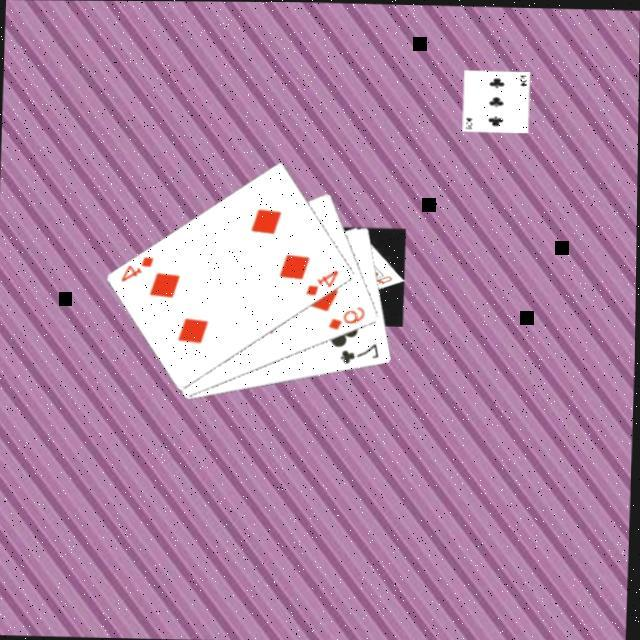4D: (120, 251, 160, 284), (305, 264, 344, 297)
6D: (327, 300, 370, 331)
7C: (339, 337, 385, 366)
